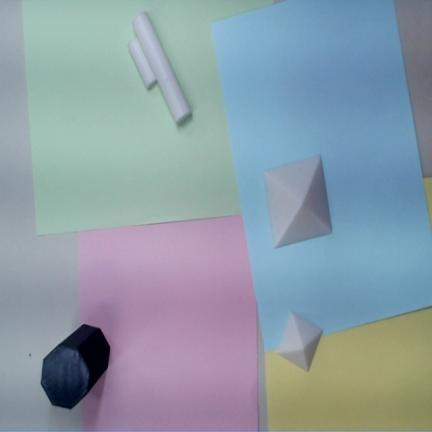Cilindro: (132, 13, 193, 126), (128, 39, 156, 87)
Piramide: (263, 153, 332, 249), (277, 311, 322, 370)
Prisma_hexagonal: (40, 324, 111, 410)
